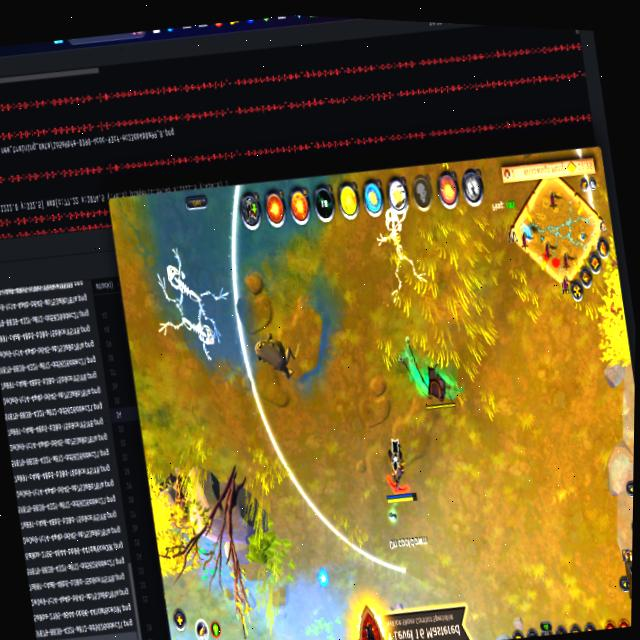ore: (244, 310, 318, 398)
red: (372, 426, 424, 512)
